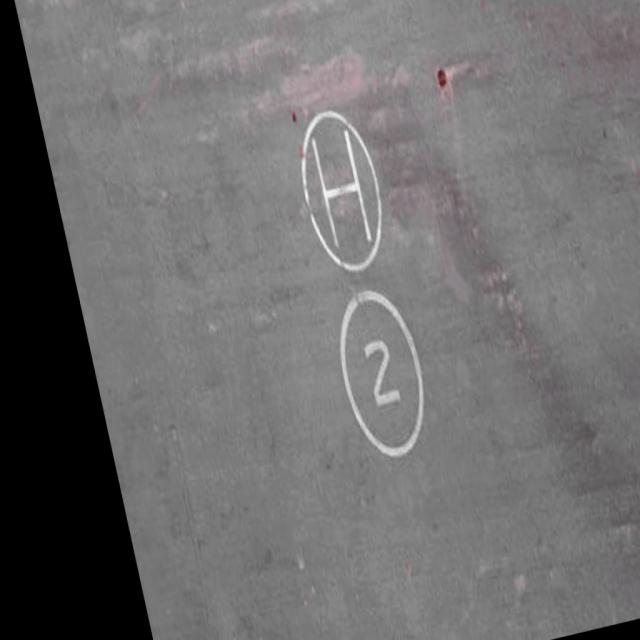helipad: (296, 103, 386, 274)
